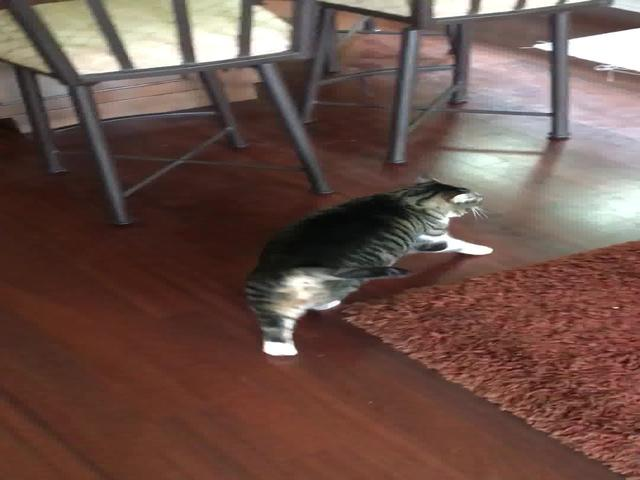playdoh: (237, 174, 495, 360)
